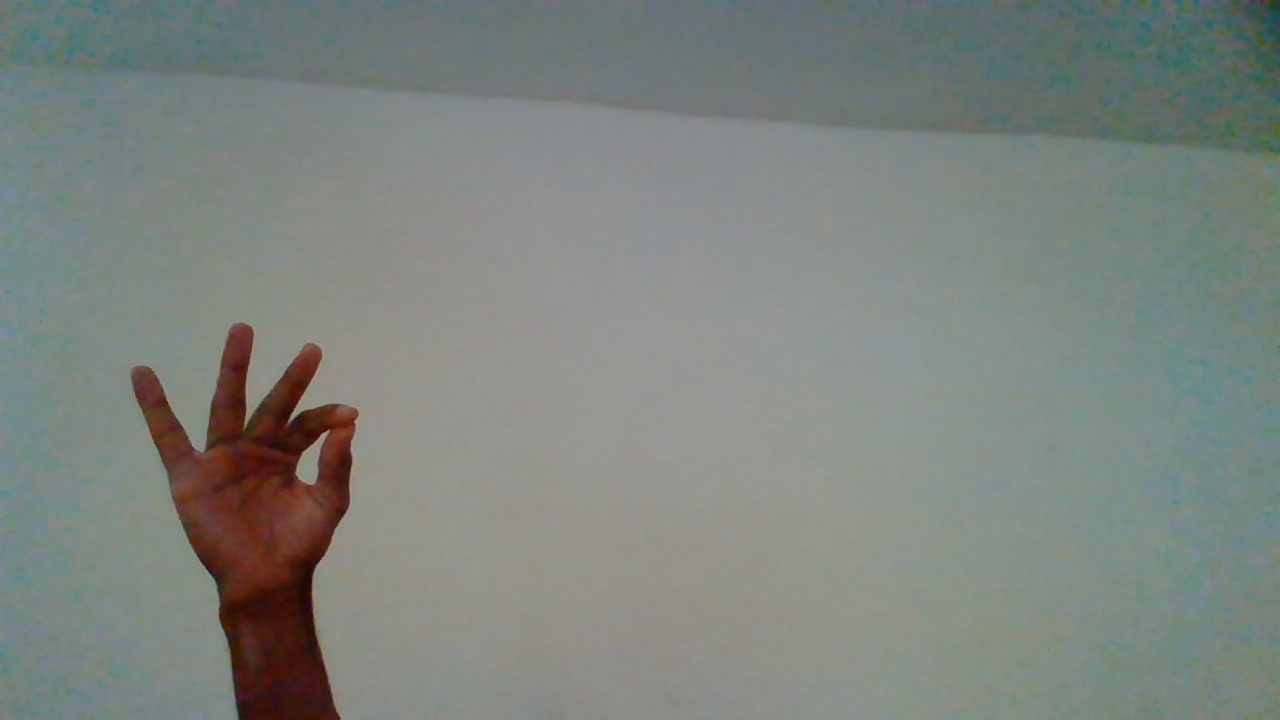le: (129, 321, 360, 712)
